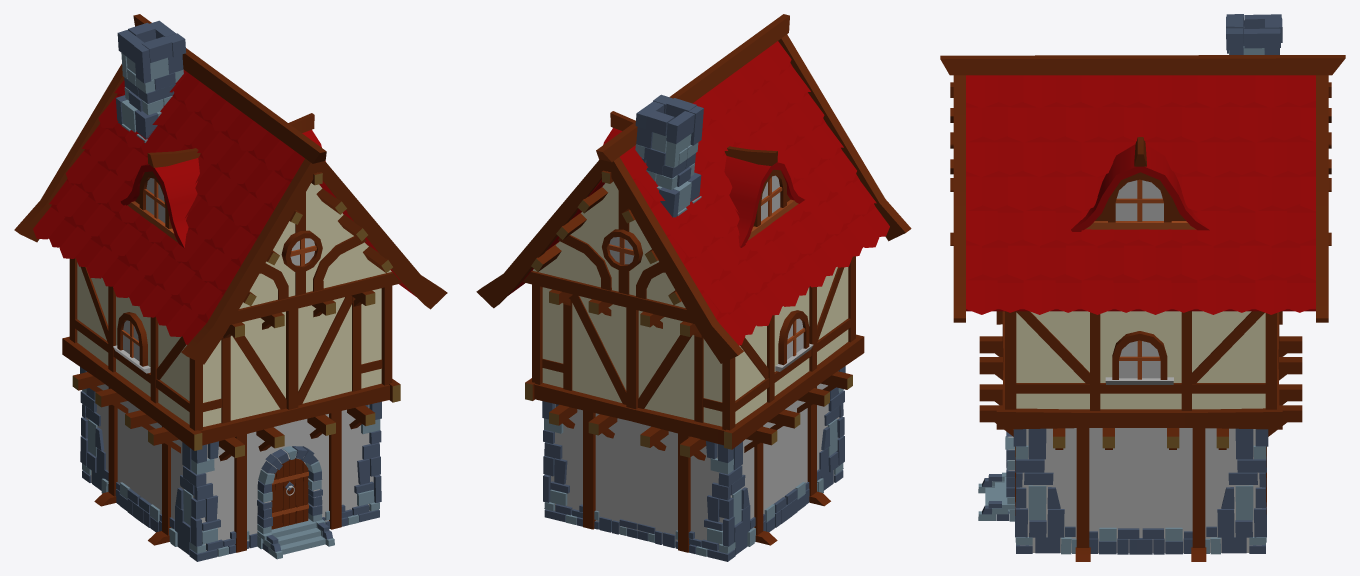
The model's file is house1.obj.
3 renders of one model, left to right at view 1: azimuth 30°, elevation 25°; view 2: azimuth 150°, elevation 25°; view 3: azimuth 270°, elevation 25°, orthographic. The views are drawn at different scales.
Parts seen in each view (by area): view 1: House_1_Cube.145; view 2: House_1_Cube.145; view 3: House_1_Cube.145.
Boxes of the visible parts, <box> form: House_1_Cube.145: <box>14,14,447,561</box>; House_1_Cube.145: <box>476,14,911,561</box>; House_1_Cube.145: <box>940,14,1345,561</box>.
Size of the model in its own units: 6.32 by 10 by 7.84.
